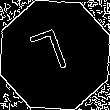L_S: (32, 26, 78, 84)
